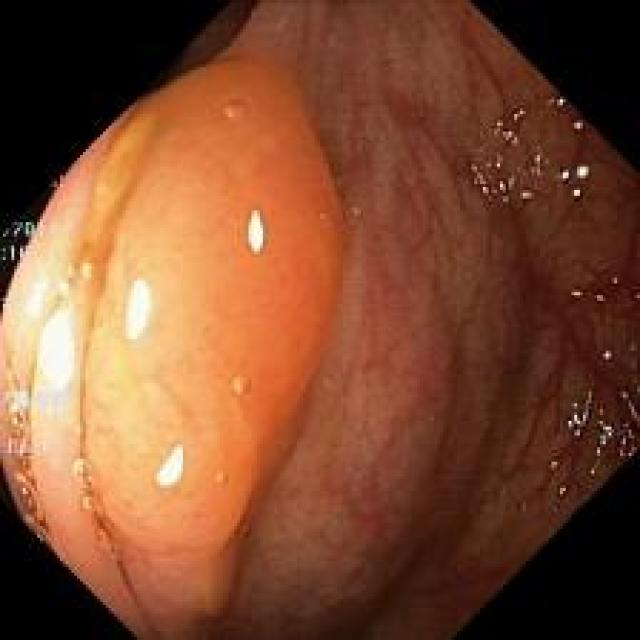Polyps: (0, 59, 345, 637)
